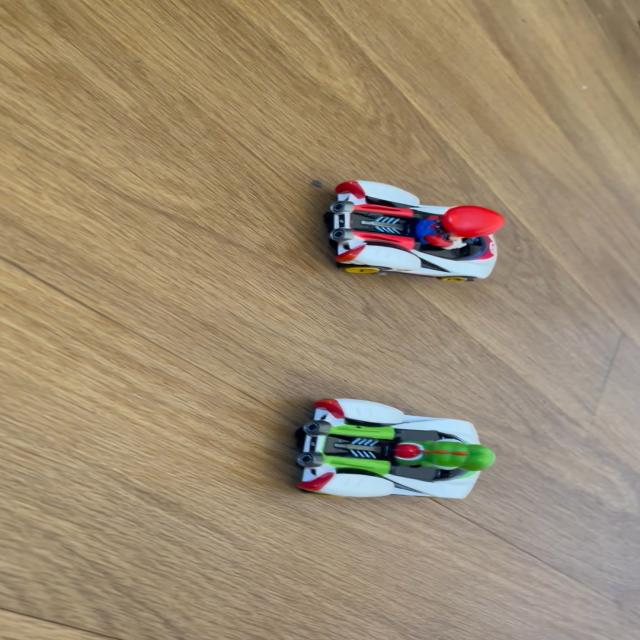mario: (312, 173, 524, 292)
yoshi: (280, 387, 512, 502)
